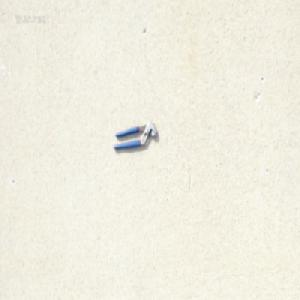Pliers: (112, 121, 158, 151)
